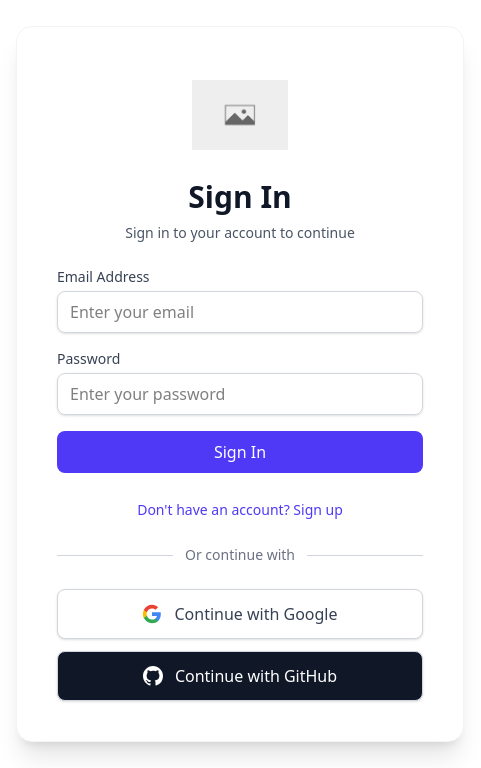
Test: AuthClientPage Component (Vitest) › renders a warning fallback state if backend explicitly sets failure hooks
This screenshot has width=481, height=768.
In the field labelled "Email Address": (240, 312) [57,291,423,333], type "wrong@example.com"
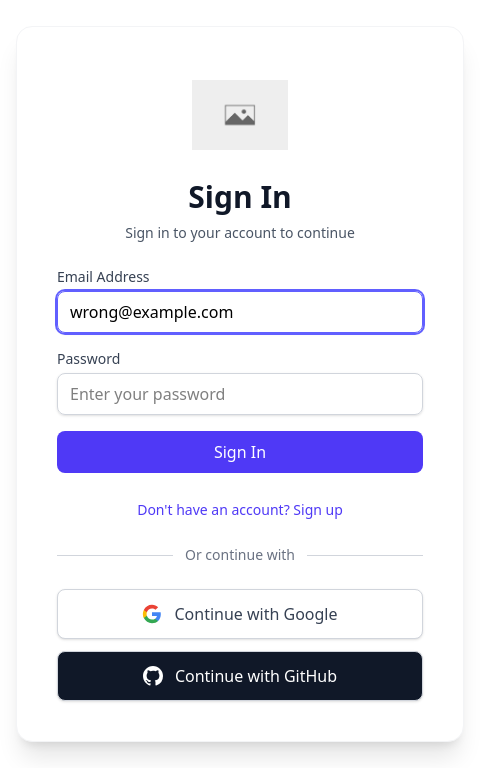
In the password field labelled "Password": (240, 394) [57,373,423,415], type "wrongpass"
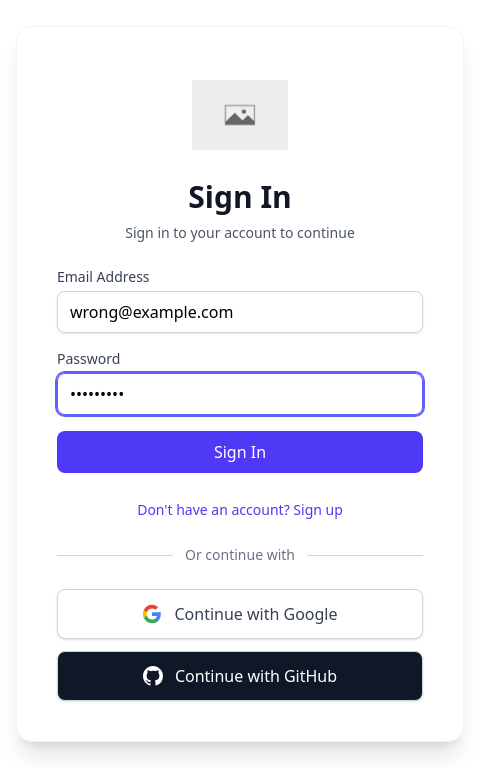
Click the button "Sign In": (240, 452) [57,431,423,473]
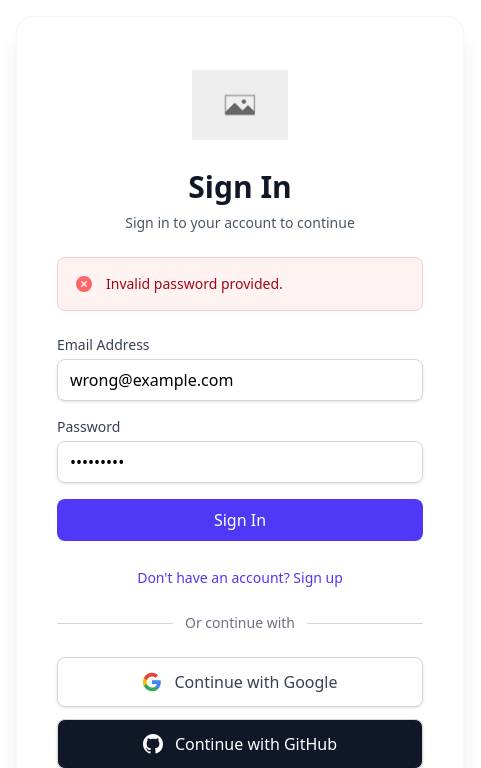
expect the message reads "Invalid password provided.": met, box [106,274,283,293]
